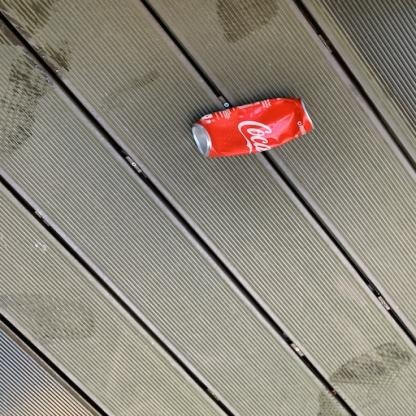trash: (192, 98, 312, 157)
